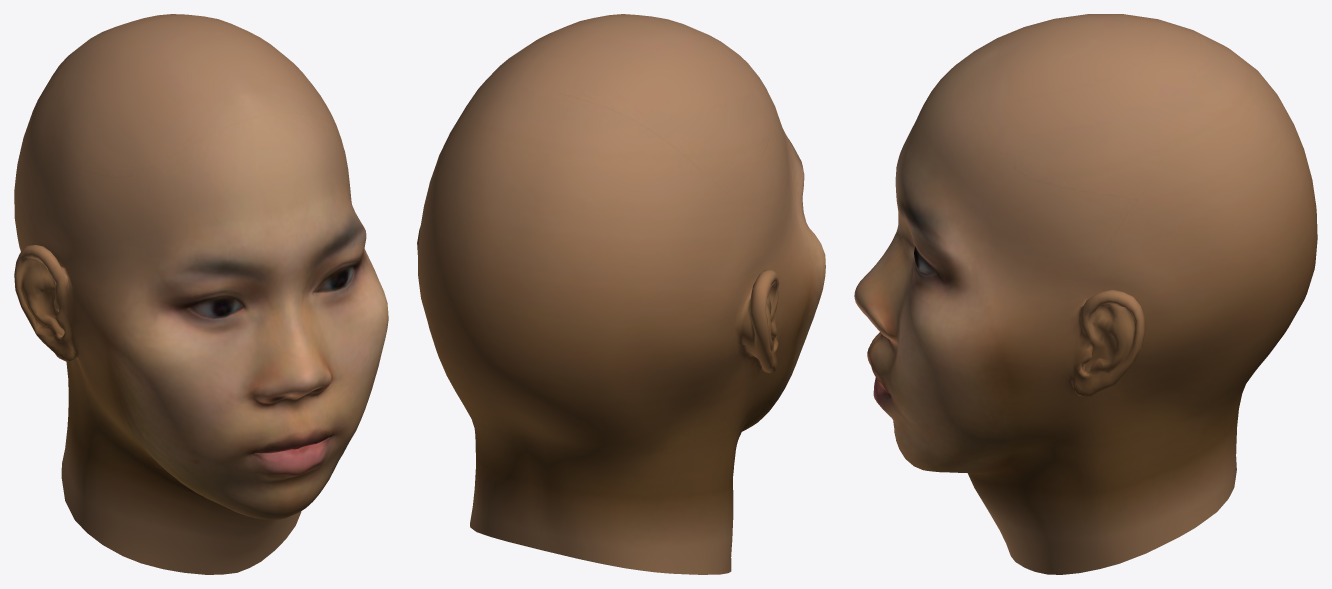
3 views of the same model, side by side, from view 1: azimuth 30°, elevation 25°; view 2: azimuth 150°, elevation 25°; view 3: azimuth 270°, elevation 25° (orthographic). The views are drawn at different scales.
Visible parts, largest first — view 1: HeadHires; view 2: HeadHires; view 3: HeadHires.
Part boxes in pixels (x1=…): HeadHires: x1=14, y1=14, x2=388, y2=574; HeadHires: x1=417, y1=14, x2=825, y2=574; HeadHires: x1=854, y1=14, x2=1317, y2=574.
Bounding box in the file's own units: 189 × 284 × 228.
Materials: 1 (1 with a texture image).
